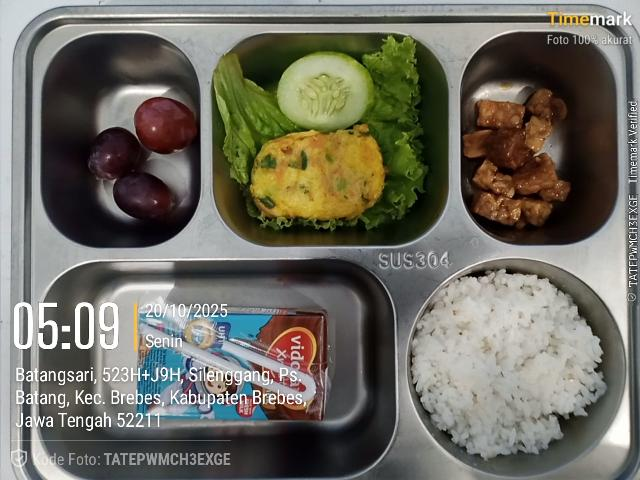buah: (78, 96, 199, 220)
nasi: (412, 270, 607, 458)
sayur: (214, 37, 428, 230)
susu: (133, 297, 329, 421)
tempe: (462, 88, 572, 228), (250, 124, 386, 222), (250, 124, 385, 220), (319, 163, 330, 190)
